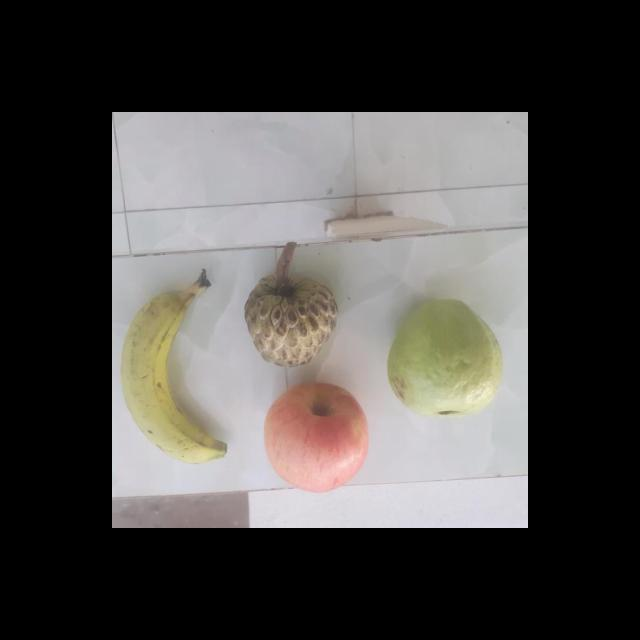Sakya fruit: (245, 262, 342, 367)
apple: (262, 382, 372, 491)
banana: (122, 280, 228, 462)
guava: (390, 300, 504, 414)
